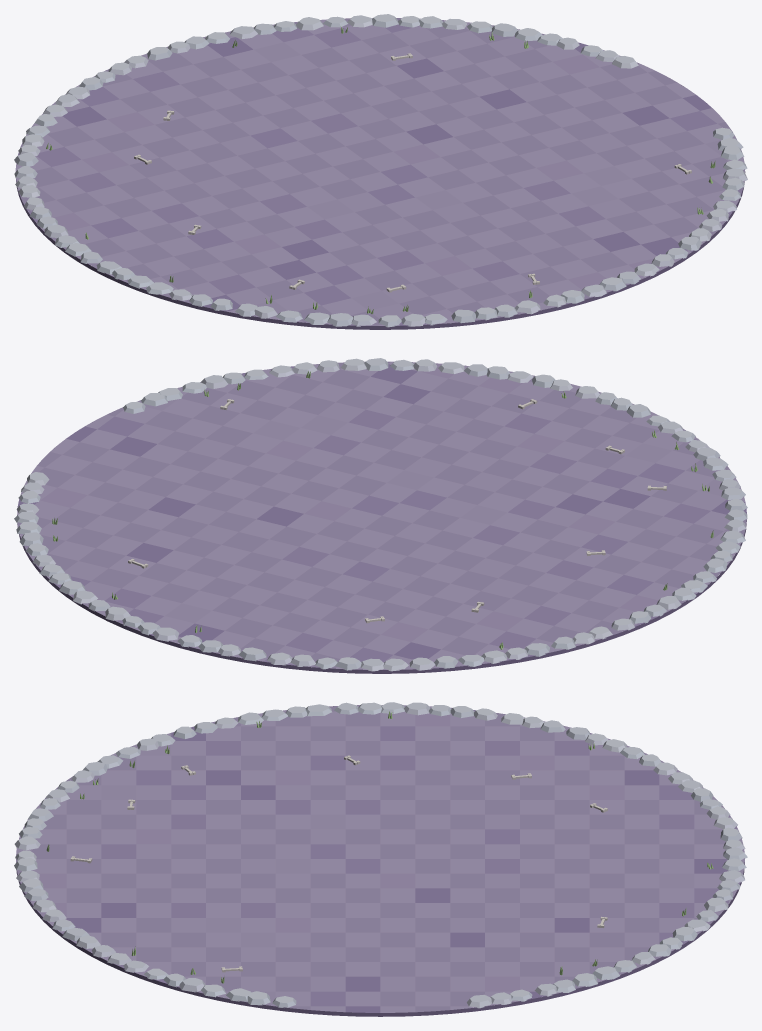
Rendered from Cemetery_Round.glb.
3 views of the same model, one above another, from view 1: azimuth 30°, elevation 25°; view 2: azimuth 150°, elevation 25°; view 3: azimuth 270°, elevation 25° (orthographic).
Parts seen in each view (by area): view 1: Main; view 2: Main; view 3: Main.
Part boxes in pixels (x1,y1,x2,y2): Main: (14,14,747,329); Main: (14,358,747,673); Main: (14,702,747,1016).
Bounding box in the file's own units: 46.2 × 0.8191 × 46.31.
